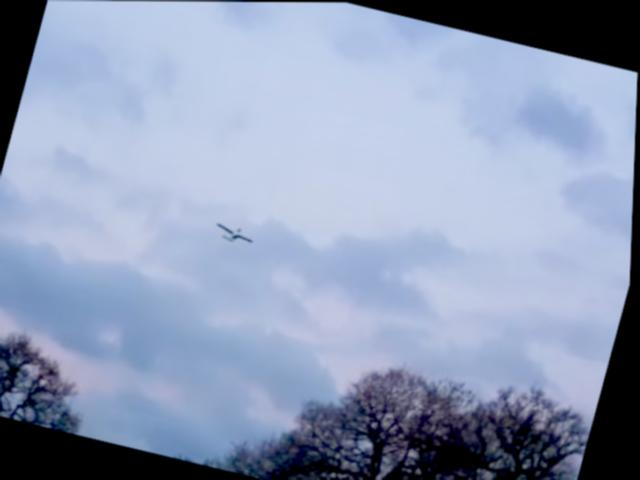uav: (210, 215, 259, 250)
